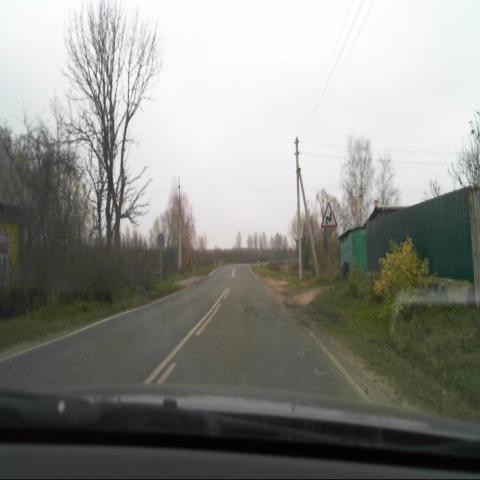1_12: (320, 201, 336, 226)
